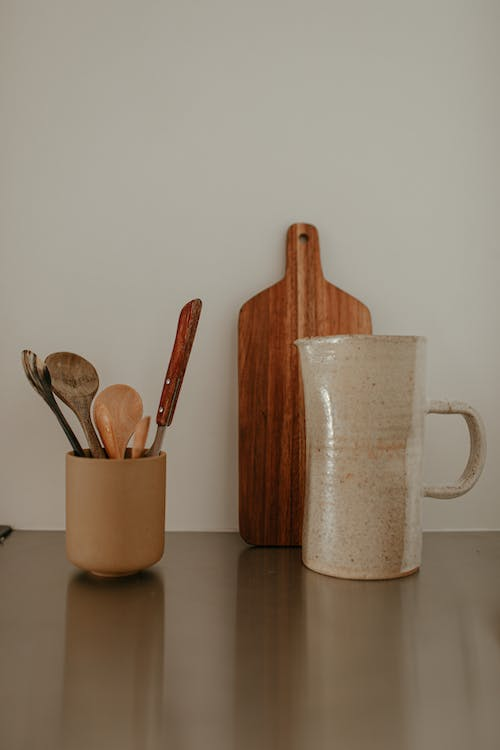knife: (144, 295, 206, 456)
